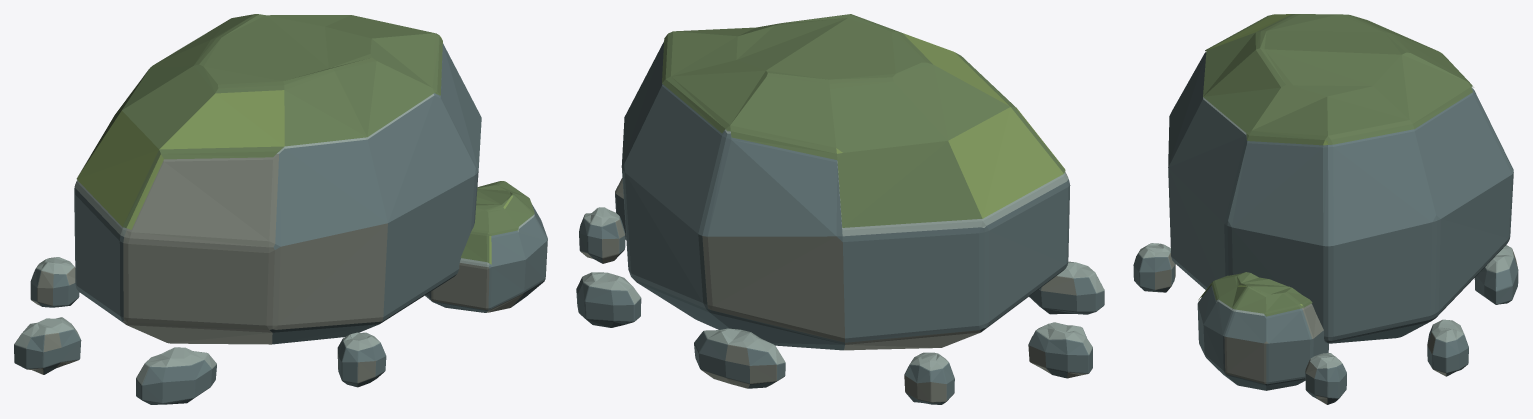
Rendered from boulder.glb.
3 views of the same model, side by side, from view 1: azimuth 30°, elevation 25°; view 2: azimuth 150°, elevation 25°; view 3: azimuth 270°, elevation 25° (orthographic). The views are drawn at different scales.
Visible parts, largest first — view 1: Keep_Mesh; view 2: Keep_Mesh; view 3: Keep_Mesh.
Part boxes in pixels (bbox=[...]): Keep_Mesh: bbox=[14, 14, 547, 404]; Keep_Mesh: bbox=[576, 14, 1104, 404]; Keep_Mesh: bbox=[1133, 14, 1518, 404].
Bounding box in the file's own units: 2.77 × 1.39 × 1.91.
